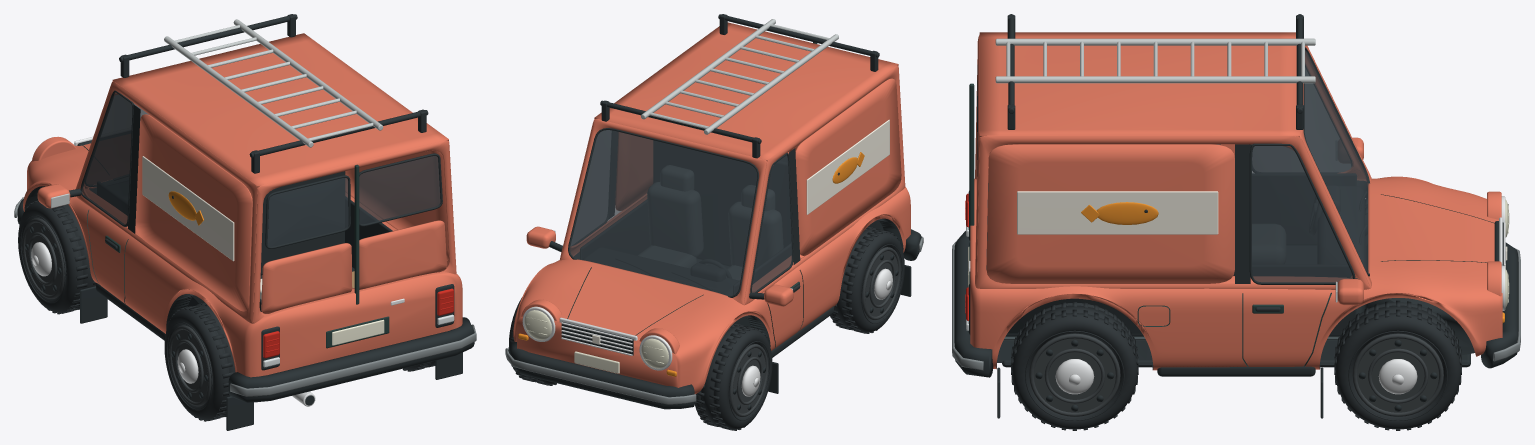
File: kipper.fbx
The picture shows the model from 3 angles, left to right: view 1: azimuth 30°, elevation 25°; view 2: azimuth 150°, elevation 25°; view 3: azimuth 270°, elevation 25°; orthographic projection. The views are drawn at different scales.
Parts seen in each view (by area): view 1: Body, Wheel_FL_Mesh, Wheel_RL_Mesh; view 2: Body, Wheel_FL_Mesh, Wheel_RL_Mesh; view 3: Body, Wheel_FR_Mesh, Wheel_RR_Mesh.
Boxes of the visible parts, left/top/right/bottom form: Body: left=14, top=14, right=476, bottom=430; Wheel_FL_Mesh: left=18, top=200, right=96, bottom=314; Wheel_RL_Mesh: left=164, top=302, right=235, bottom=421; Body: left=505, top=14, right=923, bottom=409; Wheel_FL_Mesh: left=694, top=323, right=772, bottom=430; Wheel_RL_Mesh: left=830, top=226, right=904, bottom=333; Body: left=952, top=14, right=1520, bottom=418; Wheel_FR_Mesh: left=1334, top=300, right=1461, bottom=430; Wheel_RR_Mesh: left=1011, top=302, right=1138, bottom=430.
Size of the model in its own units: 231 by 217 by 359.
